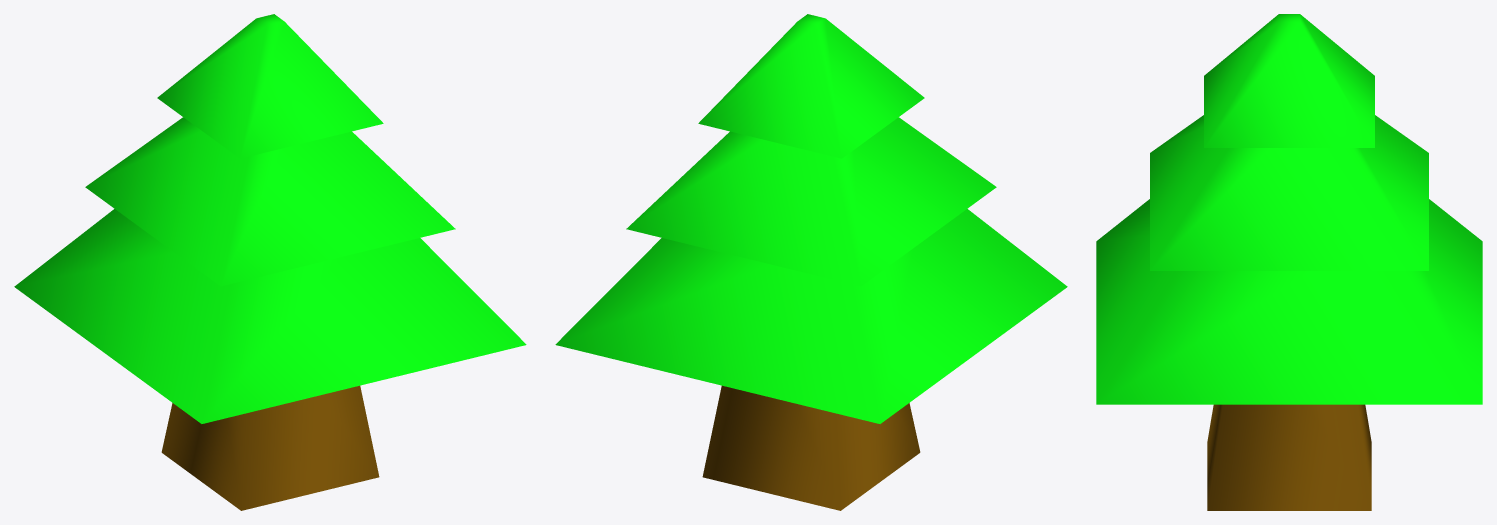
File: Arvore.fbx
3 views of the same model, side by side, from view 1: azimuth 30°, elevation 25°; view 2: azimuth 150°, elevation 25°; view 3: azimuth 270°, elevation 25° (orthographic). The views are drawn at different scales.
Visible parts, largest first — view 1: Arvore; view 2: Arvore; view 3: Arvore.
Boxes of the visible parts, box(x1,y1,x2,y2) form: Arvore: box(14, 14, 526, 510); Arvore: box(555, 14, 1067, 510); Arvore: box(1096, 14, 1482, 510).
Bounding box in the file's own units: 391 × 512 × 391.
